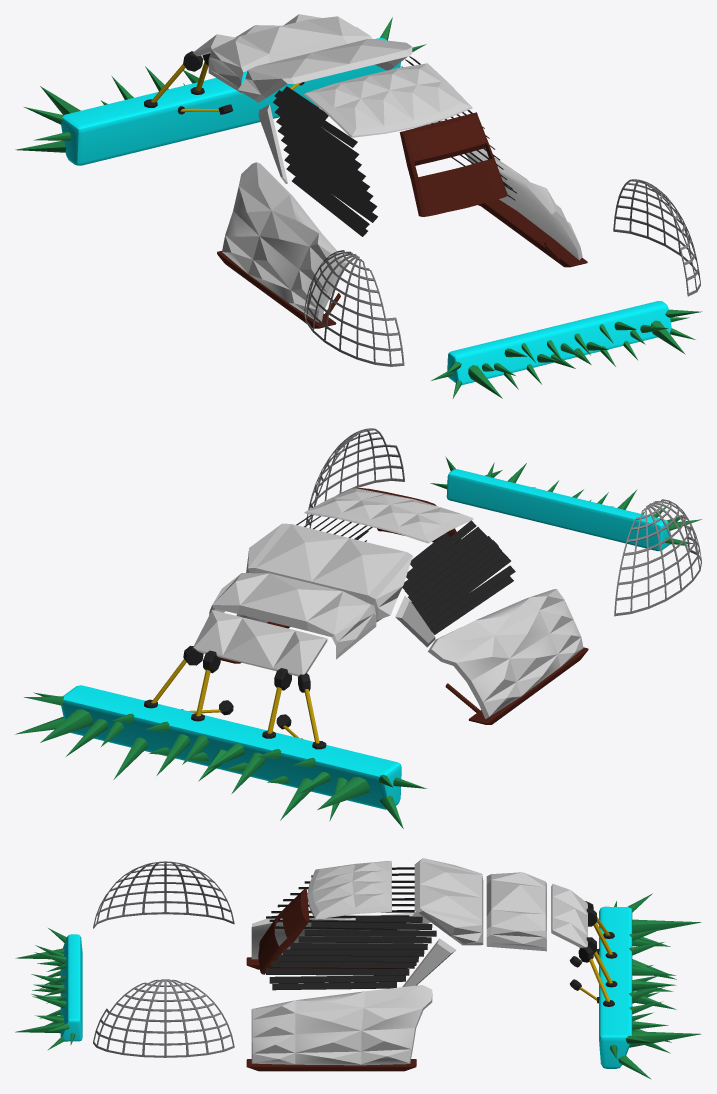
Rendered from Just Armor Buggy.obj.
3 views of the same model, one above another, from view 1: azimuth 30°, elevation 25°; view 2: azimuth 150°, elevation 25°; view 3: azimuth 270°, elevation 25° (orthographic). The views are drawn at different scales.
Parts seen in each view (by area): view 1: Buggy_Armor Buggy_Geo Buggy_Buggy Buggy Bumper Back_Bumper, Buggy_Armor Buggy_Geo Buggy_Buggy Buggy Panel_8_Geo, Buggy_Armor Buggy_Geo Buggy_Buggy Buggy Front_Bumper, Buggy_Armor Buggy_Geo Buggy_Buggy Buggy Window_Visors, Buggy_Armor Buggy_Geo Buggy_Buggy Buggy Panel_4_Geo, Buggy_Armor Buggy_Geo Buggy_Buggy Buggy WindShield, Buggy_Armor Buggy_Geo Buggy_Buggy Buggy Wheel_Guard, Buggy_Armor Buggy_Geo Buggy_Buggy Buggy Panel_1_Geo, Buggy_Armor Buggy_Geo Buggy_Buggy Buggy Panel_3_Geo, Buggy_Armor Buggy_Geo Buggy_Buggy Buggy Panel_7_Geo, Buggy_Armor Buggy_Geo Buggy_Buggy Buggy Skid_2_Geo, Buggy_Armor Buggy_Geo Buggy_Buggy Buggy Skid_1_Geo (+3 smaller); view 2: Buggy_Armor Buggy_Geo Buggy_Buggy Buggy Bumper Back_Bumper, Buggy_Armor Buggy_Geo Buggy_Buggy Buggy Panel_8_Geo, Buggy_Armor Buggy_Geo Buggy_Buggy Buggy Panel_3_Geo, Buggy_Armor Buggy_Geo Buggy_Buggy Buggy Front_Bumper, Buggy_Armor Buggy_Geo Buggy_Buggy Buggy Window_Visors, Buggy_Armor Buggy_Geo Buggy_Buggy Buggy Panel_1_Geo, Buggy_Armor Buggy_Geo Buggy_Buggy Buggy Wheel_Guard, Buggy_Armor Buggy_Geo Buggy_Buggy Buggy Panel_2_Geo, Buggy_Armor Buggy_Geo Buggy_Buggy Buggy Panel_4_Geo, Back_bumper_Bracket Buggy_Armor Buggy_Geo Buggy_Buggy Buggy Brac, Back_bumper_Bracket Buggy_Armor Buggy_Geo Buggy_Buggy Buggy Moun, Buggy_Armor Buggy_Geo Buggy_Buggy Buggy Skid_1_Geo (+1 smaller); view 3: Buggy_Armor Buggy_Geo Buggy_Buggy Buggy Panel_7_Geo, Buggy_Armor Buggy_Geo Buggy_Buggy Buggy Window_Visors, Buggy_Armor Buggy_Geo Buggy_Buggy Buggy Bumper Back_Bumper, Buggy_Armor Buggy_Geo Buggy_Buggy Buggy Wheel_Guard, Buggy_Armor Buggy_Geo Buggy_Buggy Buggy Panel_3_Geo, Buggy_Armor Buggy_Geo Buggy_Buggy Buggy Panel_1_Geo, Buggy_Armor Buggy_Geo Buggy_Buggy Buggy Panel_4_Geo, Buggy_Armor Buggy_Geo Buggy_Buggy Buggy Front_Bumper, Buggy_Armor Buggy_Geo Buggy_Buggy Buggy Panel_2_Geo, Buggy_Armor Buggy_Geo Buggy_Buggy Buggy WindShield, Buggy_Armor Buggy_Geo Buggy_Buggy Buggy Panel_8_Geo, Buggy_Armor Buggy_Geo Buggy_Buggy Buggy Skid_2_Geo (+3 smaller).
Boxes of the visible parts, x1=… form: Buggy_Armor Buggy_Geo Buggy_Buggy Buggy Bumper Back_Bumper: x1=15, y1=17, x2=426, y2=165; Buggy_Armor Buggy_Geo Buggy_Buggy Buggy Panel_8_Geo: x1=222, y1=162, x2=347, y2=322; Buggy_Armor Buggy_Geo Buggy_Buggy Buggy Front_Bumper: x1=431, y1=301, x2=702, y2=398; Buggy_Armor Buggy_Geo Buggy_Buggy Buggy Window_Visors: x1=273, y1=56, x2=516, y2=236; Buggy_Armor Buggy_Geo Buggy_Buggy Buggy Panel_4_Geo: x1=303, y1=63, x2=472, y2=137; Buggy_Armor Buggy_Geo Buggy_Buggy Buggy WindShield: x1=399, y1=112, x2=507, y2=216; Buggy_Armor Buggy_Geo Buggy_Buggy Buggy Wheel_Guard: x1=304, y1=179, x2=700, y2=366; Buggy_Armor Buggy_Geo Buggy_Buggy Buggy Panel_1_Geo: x1=208, y1=16, x2=372, y2=92; Buggy_Armor Buggy_Geo Buggy_Buggy Buggy Panel_3_Geo: x1=238, y1=39, x2=412, y2=102; Buggy_Armor Buggy_Geo Buggy_Buggy Buggy Panel_7_Geo: x1=428, y1=120, x2=582, y2=260; Buggy_Armor Buggy_Geo Buggy_Buggy Buggy Skid_2_Geo: x1=478, y1=199, x2=587, y2=267; Buggy_Armor Buggy_Geo Buggy_Buggy Buggy Skid_1_Geo: x1=217, y1=251, x2=340, y2=328; Buggy_Armor Buggy_Geo Buggy_Buggy Buggy Bumper Back_Bumper: x1=14, y1=685, x2=426, y2=828; Buggy_Armor Buggy_Geo Buggy_Buggy Buggy Panel_8_Geo: x1=428, y1=589, x2=583, y2=718; Buggy_Armor Buggy_Geo Buggy_Buggy Buggy Panel_3_Geo: x1=246, y1=523, x2=412, y2=622; Buggy_Armor Buggy_Geo Buggy_Buggy Buggy Front_Bumper: x1=430, y1=456, x2=701, y2=551; Buggy_Armor Buggy_Geo Buggy_Buggy Buggy Window_Visors: x1=296, y1=514, x2=515, y2=634; Buggy_Armor Buggy_Geo Buggy_Buggy Buggy Panel_1_Geo: x1=209, y1=573, x2=376, y2=659; Buggy_Armor Buggy_Geo Buggy_Buggy Buggy Wheel_Guard: x1=305, y1=428, x2=701, y2=616; Buggy_Armor Buggy_Geo Buggy_Buggy Buggy Panel_2_Geo: x1=193, y1=610, x2=327, y2=676; Buggy_Armor Buggy_Geo Buggy_Buggy Buggy Panel_4_Geo: x1=304, y1=488, x2=473, y2=543; Back_bumper_Bracket Buggy_Armor Buggy_Geo Buggy_Buggy Buggy Brac: x1=144, y1=645, x2=326, y2=749; Back_bumper_Bracket Buggy_Armor Buggy_Geo Buggy_Buggy Buggy Moun: x1=151, y1=659, x2=319, y2=743; Buggy_Armor Buggy_Geo Buggy_Buggy Buggy Skid_1_Geo: x1=445, y1=647, x2=588, y2=724; Buggy_Armor Buggy_Geo Buggy_Buggy Buggy Panel_7_Geo: x1=251, y1=985, x2=432, y2=1065; Buggy_Armor Buggy_Geo Buggy_Buggy Buggy Window_Visors: x1=266, y1=867, x2=436, y2=990; Buggy_Armor Buggy_Geo Buggy_Buggy Buggy Bumper Back_Bumper: x1=599, y1=893, x2=701, y2=1079; Buggy_Armor Buggy_Geo Buggy_Buggy Buggy Wheel_Guard: x1=93, y1=861, x2=234, y2=1057; Buggy_Armor Buggy_Geo Buggy_Buggy Buggy Panel_3_Geo: x1=414, y1=858, x2=483, y2=945; Buggy_Armor Buggy_Geo Buggy_Buggy Buggy Panel_1_Geo: x1=486, y1=872, x2=546, y2=951; Buggy_Armor Buggy_Geo Buggy_Buggy Buggy Panel_4_Geo: x1=307, y1=860, x2=391, y2=919; Buggy_Armor Buggy_Geo Buggy_Buggy Buggy Front_Bumper: x1=15, y1=928, x2=82, y2=1050; Buggy_Armor Buggy_Geo Buggy_Buggy Buggy Panel_2_Geo: x1=551, y1=883, x2=587, y2=947; Buggy_Armor Buggy_Geo Buggy_Buggy Buggy WindShield: x1=258, y1=889, x2=309, y2=974; Buggy_Armor Buggy_Geo Buggy_Buggy Buggy Panel_8_Geo: x1=251, y1=912, x2=430, y2=959; Buggy_Armor Buggy_Geo Buggy_Buggy Buggy Skid_2_Geo: x1=246, y1=1059, x2=416, y2=1071.
Size of the model in its own units: 4.58 by 1.88 by 8.37.
